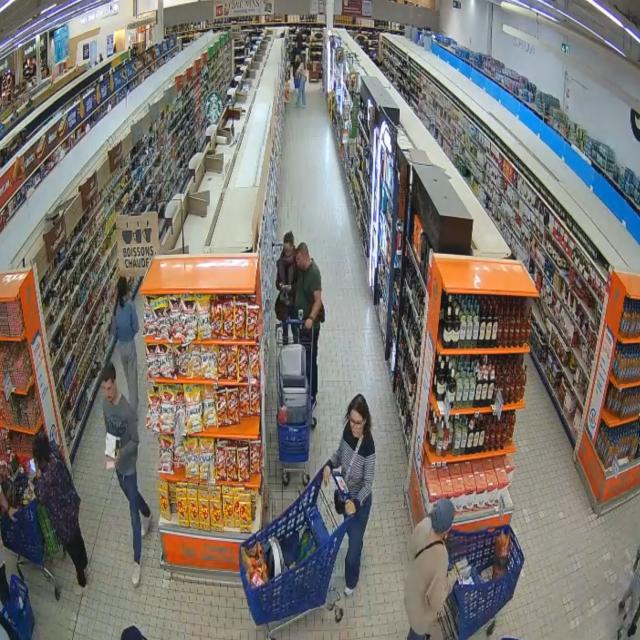article: (104, 433, 121, 460)
bags: (344, 437, 362, 483), (415, 541, 443, 559), (275, 295, 288, 321)
hands: (345, 500, 356, 516), (323, 465, 330, 485), (8, 508, 16, 521), (115, 449, 121, 464), (305, 318, 312, 330)
person: (101, 362, 151, 585), (324, 394, 375, 596), (33, 434, 88, 594), (405, 499, 456, 639), (294, 243, 324, 407), (112, 277, 139, 414), (275, 231, 297, 344), (618, 549, 639, 639), (0, 488, 16, 518)
